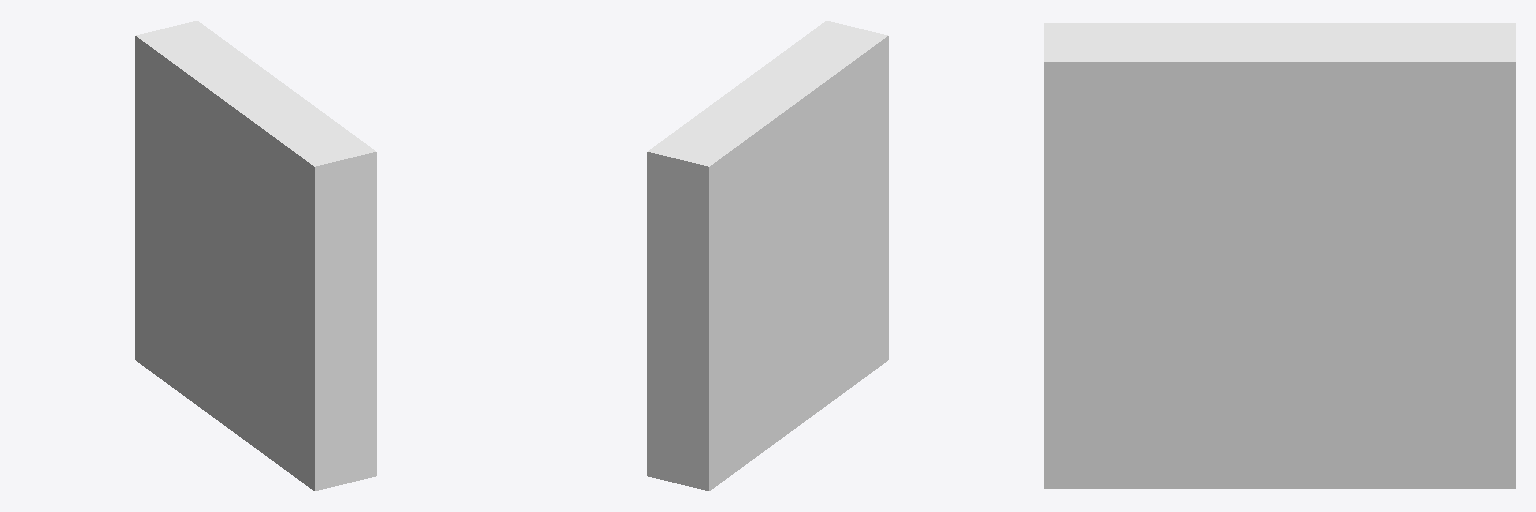
The robot description file, URDF, robot "cube_skeleton":
<?xml version="1.0"?>
<robot name="cube_skeleton">
    <link name="base" />
    <link name="cube_link">
        <inertial>
            <mass value="0.01" />
            <origin xyz="0.0001 0 0" rpy="0 0 0" />
            <inertia ixx="1.0" ixy="0" ixz="0" iyy="1.0" iyz="0" izz="1.0" />
        </inertial>
        <visual>
            <origin xyz="0 0 0" rpy="0 0 0" />
            <geometry>
                <mesh filename="./cube1.obj"/>
            </geometry>
            <material name="mat_0_0">
				<color rgba="1.0000 1.000 1.0000 1.00000" />
			</material>
        </visual>
        <collision group="default">
            <origin xyz="0.001 0 0" rpy="0 -0 0" />
            <geometry>
                <mesh filename="./cube1.obj"/>
            </geometry>
        </collision>
    </link>
    <joint name="cube_joint" type="fixed">
        <origin xyz="0 0 0" rpy="0 0 0" />
        <parent link="base" />
        <child link="cube_link" />
    </joint>
</robot>

--- What the picture shows (computed from the rendered views, not written in the file) ---
3 views of the same robot in one strip: view 1: azimuth 30°, elevation 25°; view 2: azimuth 150°, elevation 25°; view 3: azimuth 270°, elevation 25° (orthographic).
Model cube_skeleton with 2 links and 1 joints (1 fixed), rooted at base, posed every joint at zero.
Links seen in each view (by area): view 1: cube_link; view 2: cube_link; view 3: cube_link.
Boxes of the visible links, <box> form: cube_link: <box>135,21,376,490</box>; cube_link: <box>647,21,888,490</box>; cube_link: <box>1044,23,1515,488</box>.
Bounding box of the posed robot: 0.02 × 0.1 × 0.1 m (x, y, z).
Meshes: 1 distinct files referenced, 1 mesh visuals loaded (1 OBJ).
